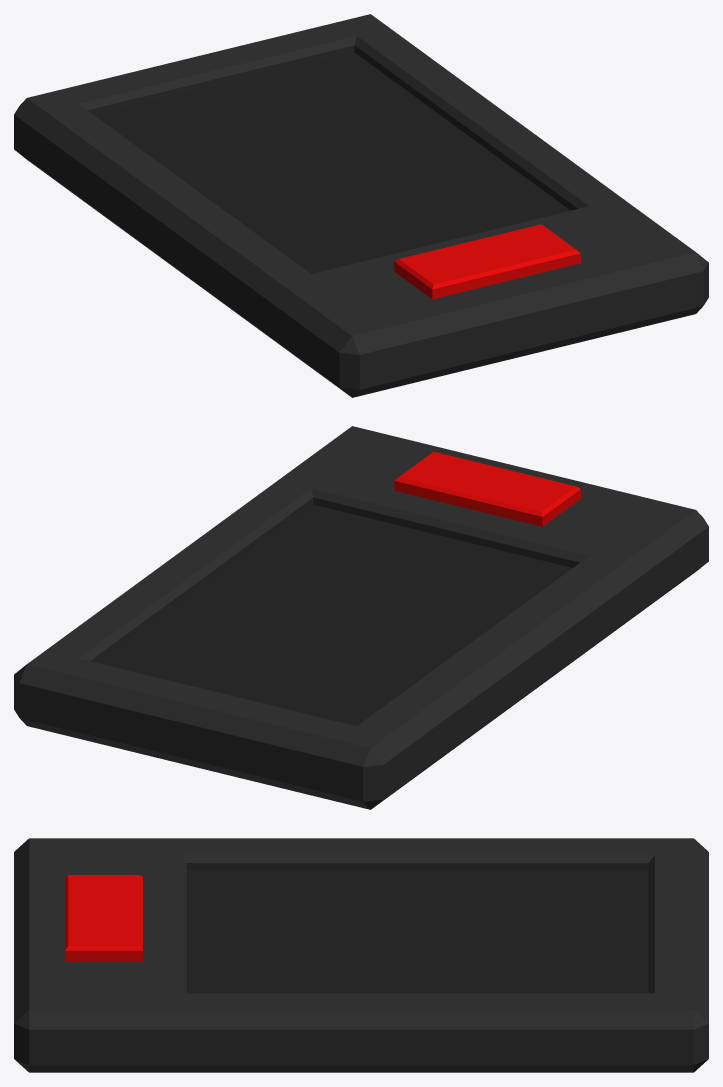
Rendered from phone.fbx.
3 renders of one model, top to bottom at view 1: azimuth 30°, elevation 25°; view 2: azimuth 150°, elevation 25°; view 3: azimuth 270°, elevation 25°, orthographic. The views are drawn at different scales.
Visible parts, largest first — view 1: Phone; view 2: Phone; view 3: Phone.
Boxes of the visible parts, x1=… form: Phone: x1=14, y1=14, x2=708, y2=397; Phone: x1=14, y1=426, x2=708, y2=809; Phone: x1=14, y1=838, x2=708, y2=1072.
Bounding box in the file's own units: 100 × 19.4 × 160.
